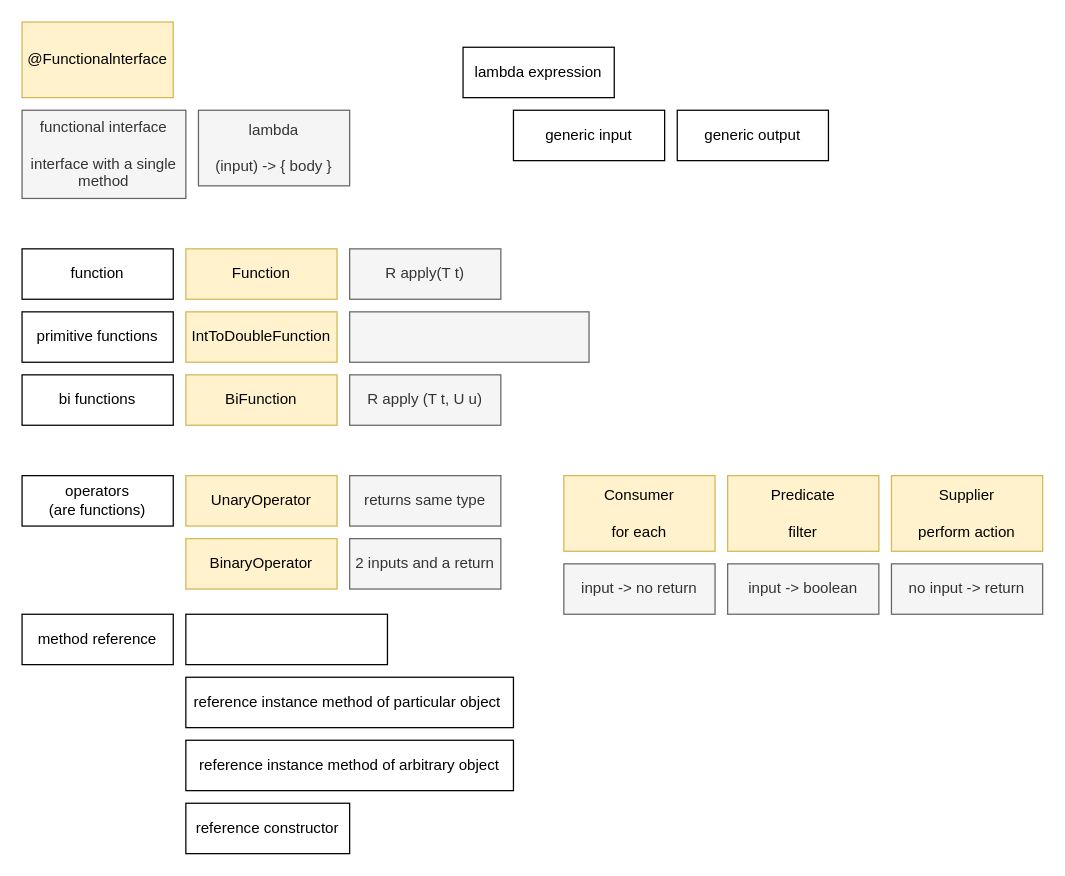
Some shapes in this 1065 by 876 pixel diagram are drawn without their labels. The centre of each missing label's shape, as x and y in pixels:
double applyAsDouble(int value): the point at 468,336
reference static method: the point at 286,639
